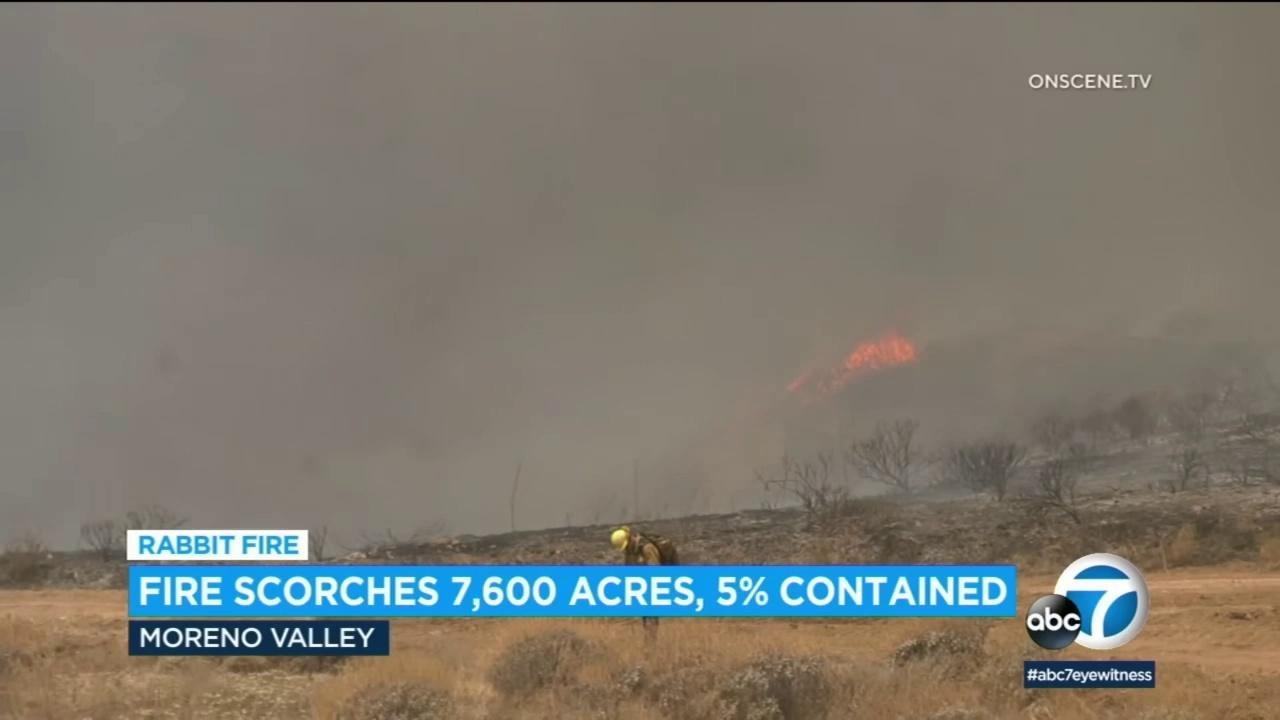fire: (816, 322, 919, 399), (786, 374, 805, 395)
smoke: (0, 2, 1280, 552)
